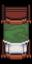Hide: (0, 4, 32, 60)
